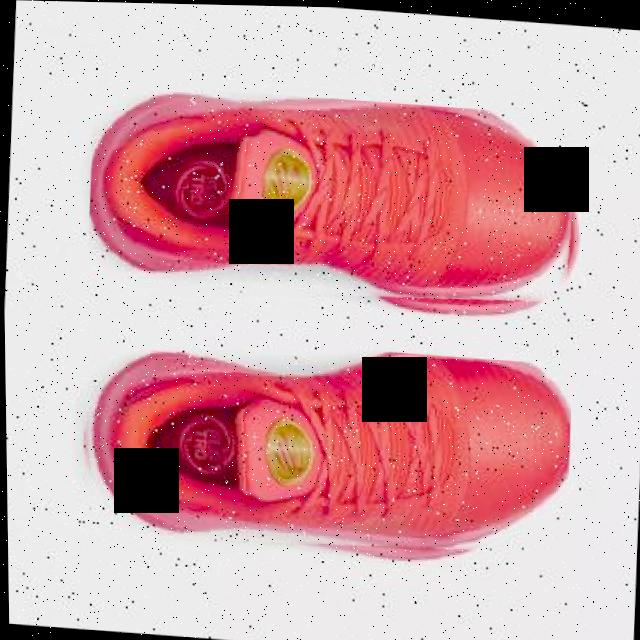shoe: (83, 80, 584, 322), (69, 329, 574, 568)
